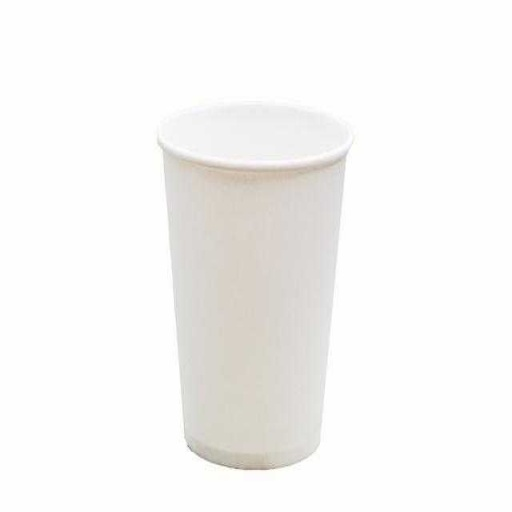cup: (156, 104, 354, 469)
